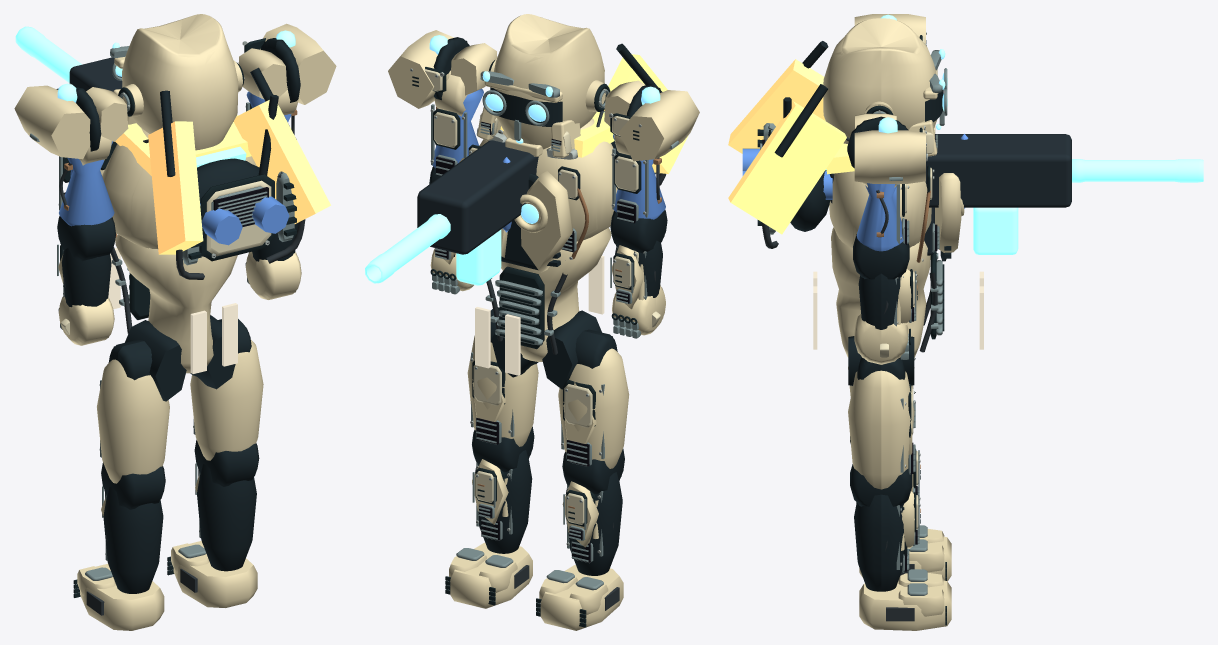
File: gemini.glb
3 views of the same model, side by side, from view 1: azimuth 30°, elevation 25°; view 2: azimuth 150°, elevation 25°; view 3: azimuth 270°, elevation 25° (orthographic). The views are drawn at different scales.
Visible parts, largest first — view 1: LOD3_Batch8, LOD7_Batch3, LOD3_Batch55, LOD3_Batch47, LOD1_Batch5, LOD3_Batch64, LOD3_Batch24, LOD3_Batch51, LOD3_Batch60, LOD3_Batch43, LOD3_Batch37, LOD3_Batch67 (+32 smaller); view 2: LOD3_Batch8, LOD7_Batch41, LOD3_Batch43, LOD3_Batch55, LOD3_Batch24, LOD3_Batch37, LOD7_Batch42, LOD1_Batch48, LOD3_Batch47, LOD3_Batch64, LOD3_Batch49, LOD3_Batch58 (+39 smaller); view 3: LOD7_Batch3, LOD7_Batch41, LOD3_Batch8, LOD3_Batch64, LOD7_Batch42, LOD3_Batch43, LOD3_Batch37, LOD3_Batch60, LOD3_Batch58, LOD3_Batch47, LOD3_Batch32, LOD3_Batch34 (+15 smaller).
Part boxes in pixels (<box>): LOD3_Batch8: <box>113,14,242,150</box>; LOD7_Batch3: <box>148,100,330,254</box>; LOD3_Batch55: <box>97,359,169,483</box>; LOD3_Batch47: <box>115,234,237,373</box>; LOD1_Batch5: <box>176,171,305,279</box>; LOD3_Batch64: <box>190,339,263,460</box>; LOD3_Batch24: <box>14,85,128,159</box>; LOD3_Batch51: <box>103,487,163,593</box>; LOD3_Batch60: <box>197,464,256,571</box>; LOD3_Batch43: <box>100,128,256,248</box>; LOD3_Batch37: <box>238,23,336,104</box>; LOD3_Batch67: <box>125,315,238,401</box>; LOD3_Batch8: <box>477,14,605,157</box>; LOD7_Batch41: <box>417,140,538,254</box>; LOD3_Batch43: <box>459,118,617,272</box>; LOD3_Batch55: <box>558,348,629,468</box>; LOD3_Batch24: <box>604,80,699,161</box>; LOD3_Batch37: <box>388,30,497,108</box>; LOD7_Batch42: <box>365,214,501,285</box>; LOD1_Batch48: <box>485,266,567,354</box>; LOD3_Batch47: <box>501,228,611,361</box>; LOD3_Batch64: <box>467,335,538,446</box>; LOD3_Batch49: <box>539,565,623,630</box>; LOD3_Batch58: <box>449,542,532,608</box>; LOD7_Batch3: <box>728,59,846,234</box>; LOD7_Batch41: <box>829,134,1071,255</box>; LOD3_Batch8: <box>823,18,938,156</box>; LOD3_Batch64: <box>848,370,914,489</box>; LOD7_Batch42: <box>973,159,1203,254</box>; LOD3_Batch43: <box>829,171,963,252</box>; LOD3_Batch37: <box>854,113,925,183</box>; LOD3_Batch60: <box>854,494,907,591</box>; LOD3_Batch58: <box>859,573,951,630</box>; LOD3_Batch47: <box>831,227,930,357</box>; LOD3_Batch32: <box>854,269,911,364</box>; LOD3_Batch34: <box>856,183,903,251</box>.
Bounding box in the file's own units: 0.9315 × 1.79 × 1.37.
